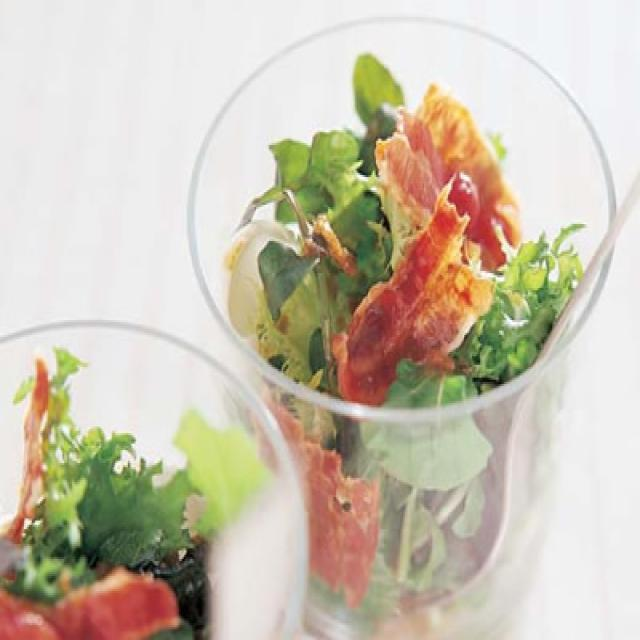蔬菜料理: (186, 9, 628, 632), (0, 313, 317, 640)
